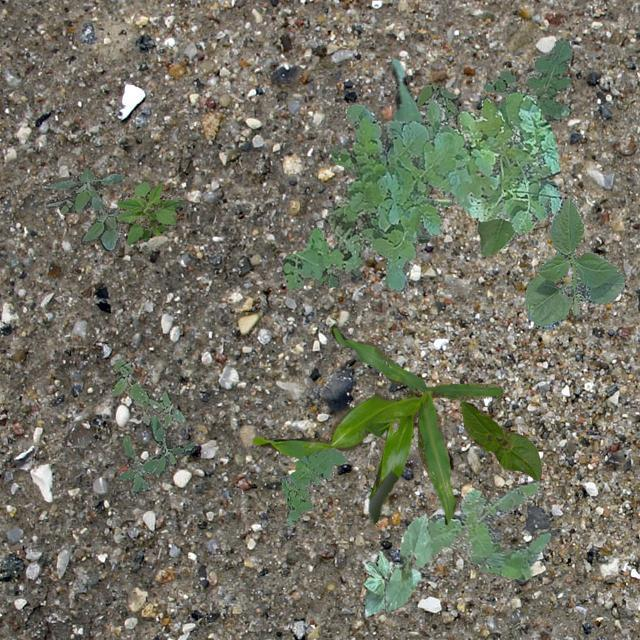crop: (252, 326, 502, 524), (524, 194, 624, 328), (390, 58, 454, 242), (460, 400, 540, 480), (384, 512, 431, 610), (362, 548, 421, 616), (476, 217, 518, 256)
weed: (282, 90, 562, 292), (426, 480, 556, 580), (476, 38, 572, 130), (41, 166, 123, 252), (118, 414, 194, 494), (280, 446, 346, 524), (110, 360, 183, 428), (116, 178, 182, 244), (416, 84, 462, 124), (312, 266, 360, 286)
